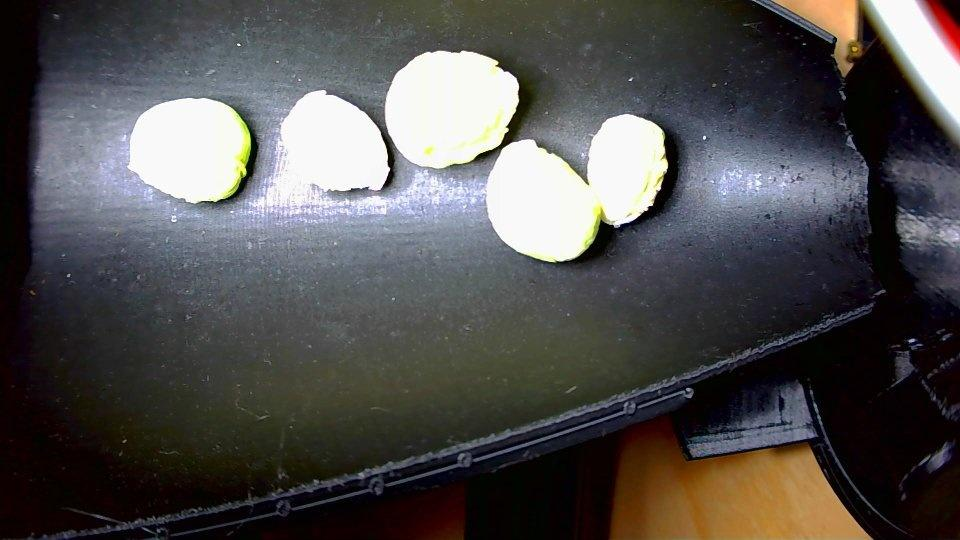berry: (385, 51, 518, 168), (486, 140, 600, 261), (127, 98, 251, 203), (281, 90, 389, 190), (587, 114, 667, 226)
